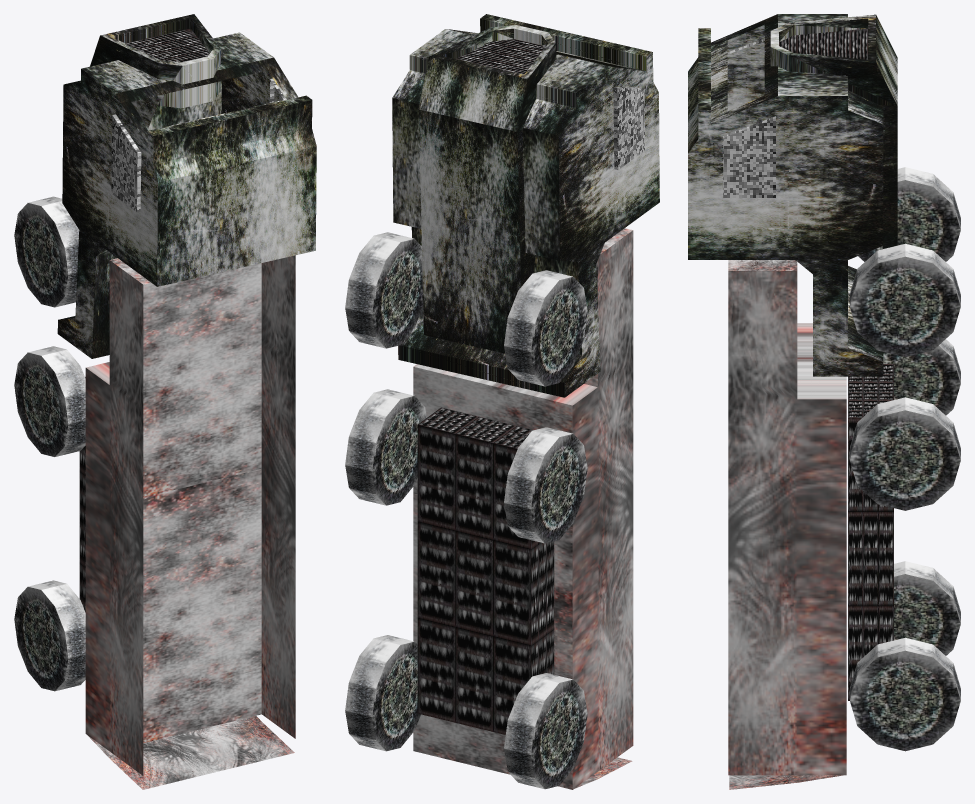
File: Truck6WheelDumpsnowed_wtf.obj
3 views of the same model, side by side, from view 1: azimuth 30°, elevation 25°; view 2: azimuth 150°, elevation 25°; view 3: azimuth 270°, elevation 25° (orthographic). The views are drawn at different scales.
Parts seen in each view (by area): view 1: group24, group26, group27, group28, group21, group6, group12, group5, group11, group25, group20, group19 (+1 smaller); view 2: group24, group23, group27, group26, group21, group12, group6, group15, group9, group3, group2, group5 (+6 smaller); view 3: group27, group24, group23, group10, group16, group4, group7, group25, group22, group13, group26, group19 (+6 smaller).
Boxes of the visible parts, x1,y1,x2,y2 form: group24: (57, 14, 316, 358); group26: (86, 258, 261, 742); group27: (85, 255, 295, 775); group28: (88, 716, 294, 789); group21: (14, 203, 68, 307); group6: (14, 587, 68, 691); group12: (14, 352, 68, 456); group5: (28, 580, 85, 691); group11: (28, 346, 85, 456); group25: (111, 78, 285, 212); group20: (28, 196, 79, 307); group19: (125, 28, 209, 62); group24: (392, 14, 659, 397); group23: (417, 407, 554, 734); group27: (572, 230, 633, 789); group26: (413, 228, 632, 789); group21: (531, 276, 587, 386); group12: (531, 434, 587, 543); group6: (531, 679, 587, 789); group15: (372, 239, 423, 348); group9: (372, 396, 426, 505); group3: (372, 641, 420, 751); group2: (345, 635, 413, 751); group5: (504, 673, 572, 789); group27: (728, 271, 846, 775); group24: (688, 14, 897, 376); group23: (848, 364, 893, 700); group10: (850, 410, 960, 510); group16: (850, 256, 960, 357); group4: (850, 650, 960, 751); group7: (894, 574, 960, 655); group25: (723, 38, 775, 197); group22: (858, 180, 960, 261); group13: (883, 345, 960, 415); group26: (728, 260, 846, 399); group19: (779, 28, 868, 59).
Bounding box in the file's own units: 176 × 660 × 229.
